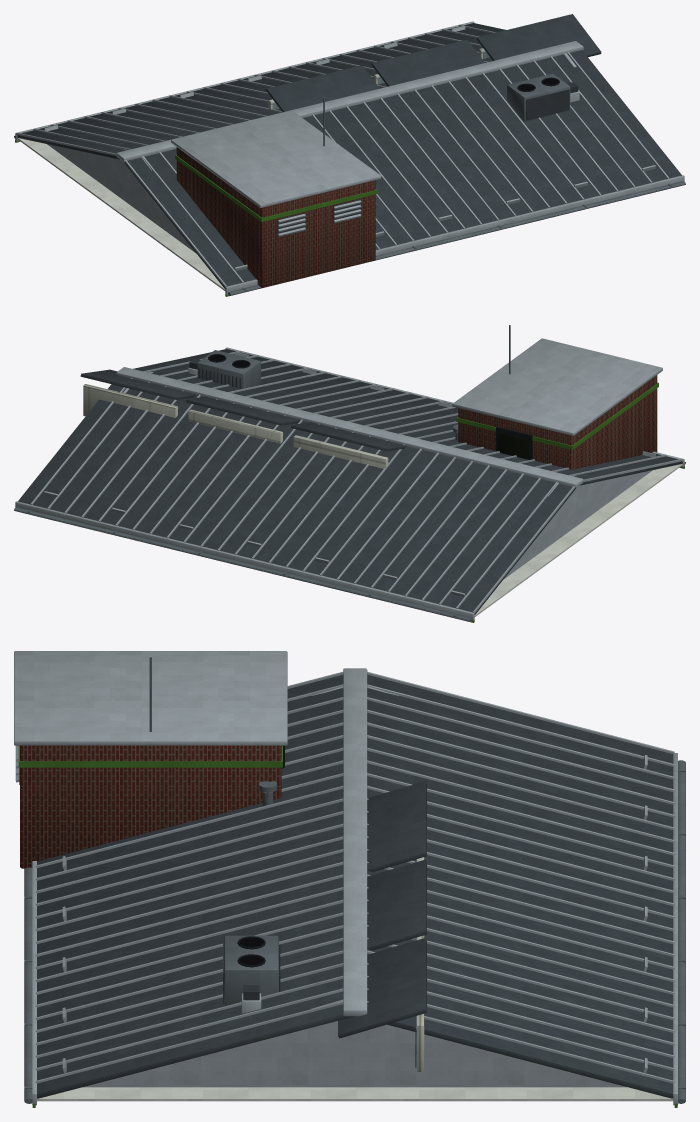
Rendered from fac_edu_roof.glb.
3 renders of one model, top to bottom at view 1: azimuth 30°, elevation 25°; view 2: azimuth 150°, elevation 25°; view 3: azimuth 270°, elevation 25°, orthographic. The views are drawn at different scales.
Visible parts, largest first — view 1: FAC_EDU_ROOF; view 2: FAC_EDU_ROOF; view 3: FAC_EDU_ROOF.
Part boxes in pixels (x1=…): FAC_EDU_ROOF: x1=14, y1=14, x2=685, y2=296; FAC_EDU_ROOF: x1=14, y1=325, x2=685, y2=622; FAC_EDU_ROOF: x1=14, y1=651, x2=685, y2=1107.
Size of the model in its own units: 15.38 by 4.26 by 12.33.
13 materials, 12 textured.
